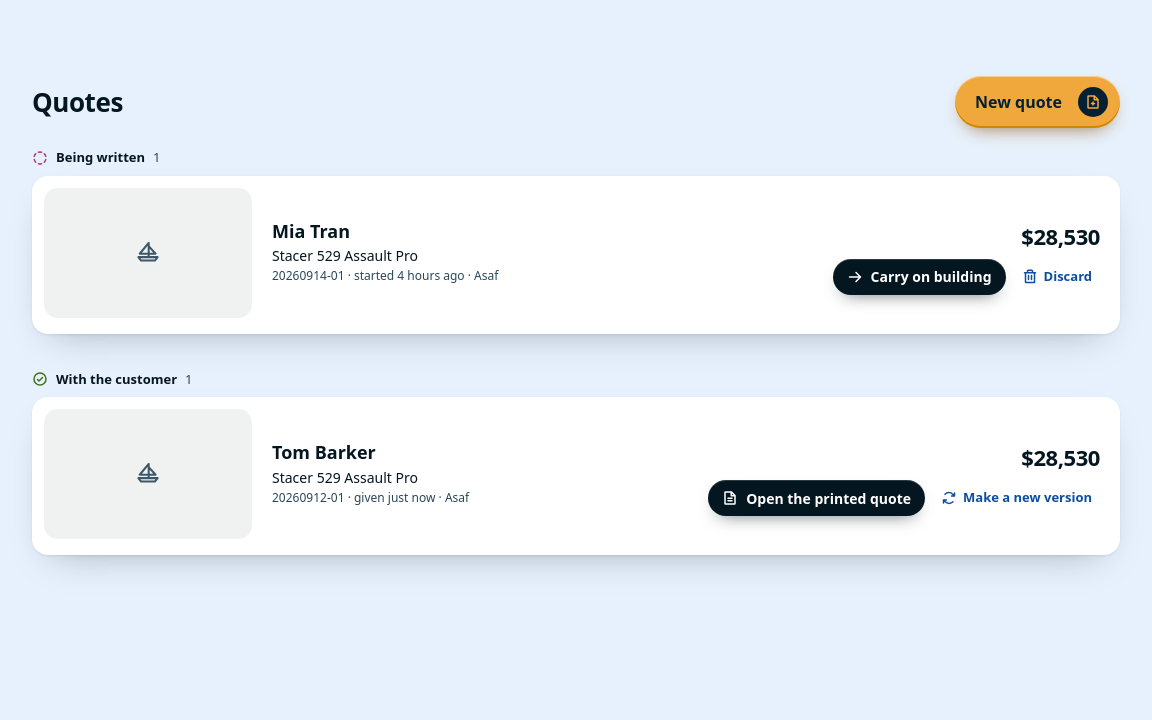
Test: deals in several states, made by the real acts › keeps a given quote with the customer while its new version is written
Click the button "Open the printed quote": (817, 498) [708, 480, 925, 516]
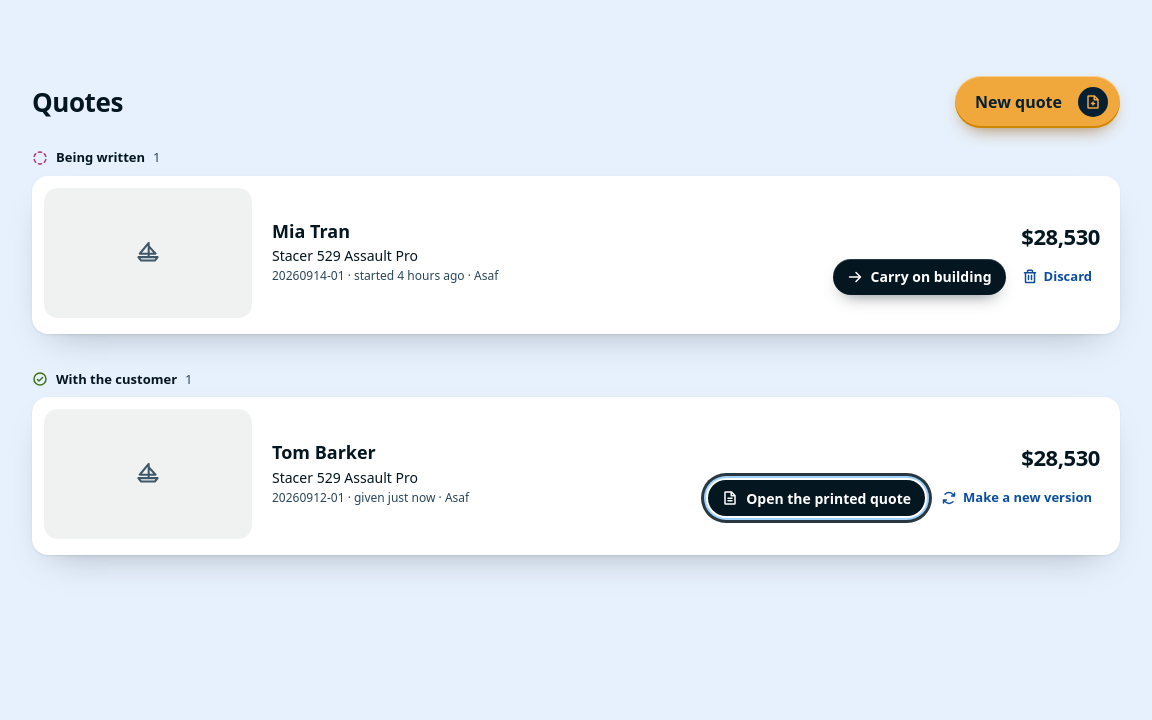
Click the button "Make a new version": (1017, 498) [933, 484, 1100, 512]
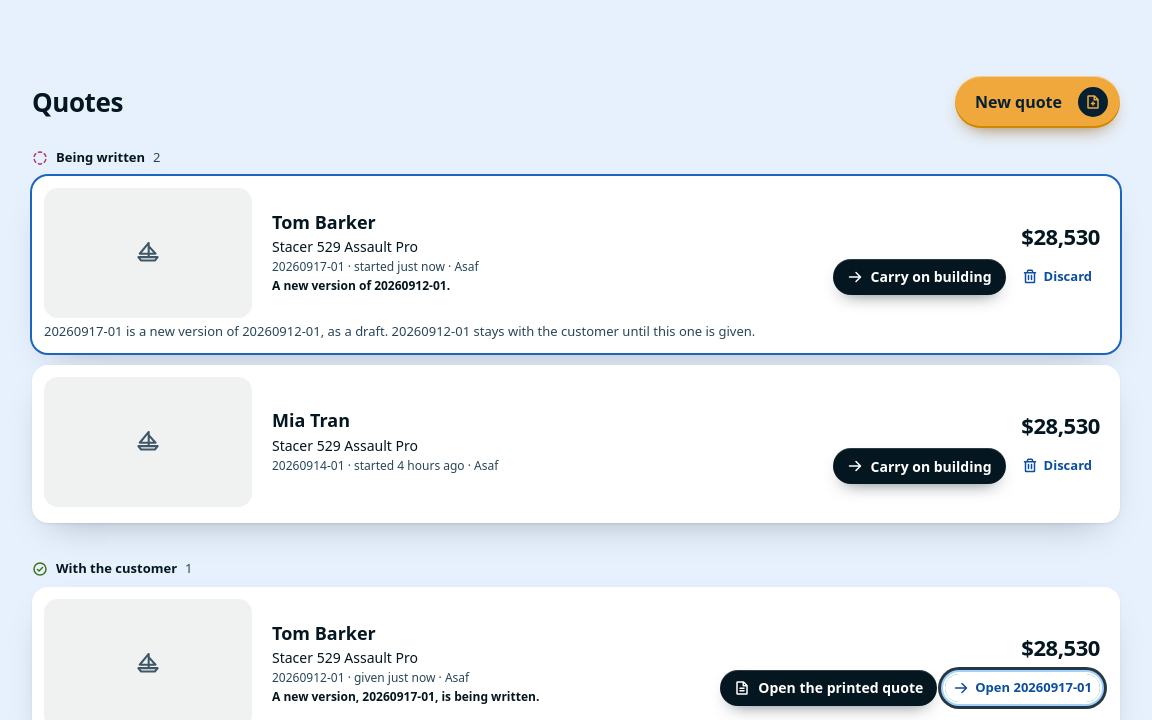
Expected: the 2nd heading "Tom Barker" is shown, [272, 620, 376, 644]
Expected: the number of headings "Tom Barker" is 1, [272, 210, 376, 234]
